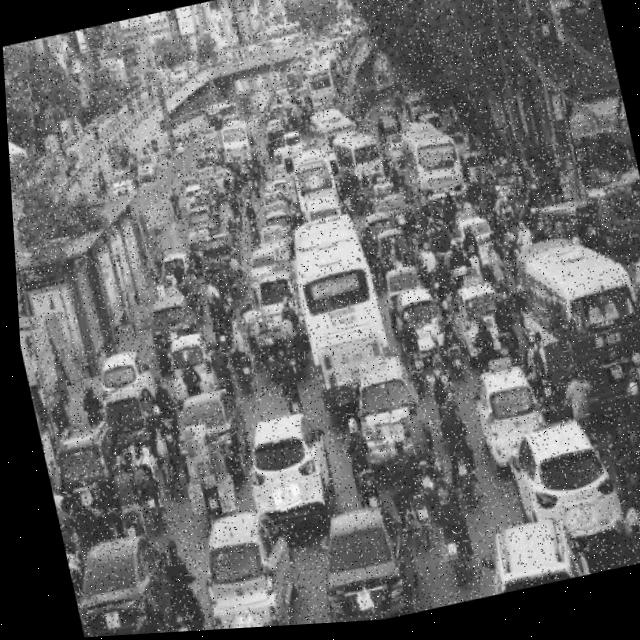LicensePlate: (562, 506, 593, 544), (264, 484, 297, 516), (345, 594, 374, 623), (410, 325, 434, 358), (373, 421, 399, 449), (599, 363, 622, 393), (358, 493, 379, 521), (432, 542, 452, 567), (227, 612, 249, 631), (346, 371, 363, 392), (73, 488, 88, 509), (165, 624, 186, 634), (163, 330, 176, 346), (475, 246, 486, 263), (269, 316, 282, 330), (501, 194, 512, 206), (479, 325, 489, 335), (395, 220, 404, 230), (472, 173, 481, 183)
